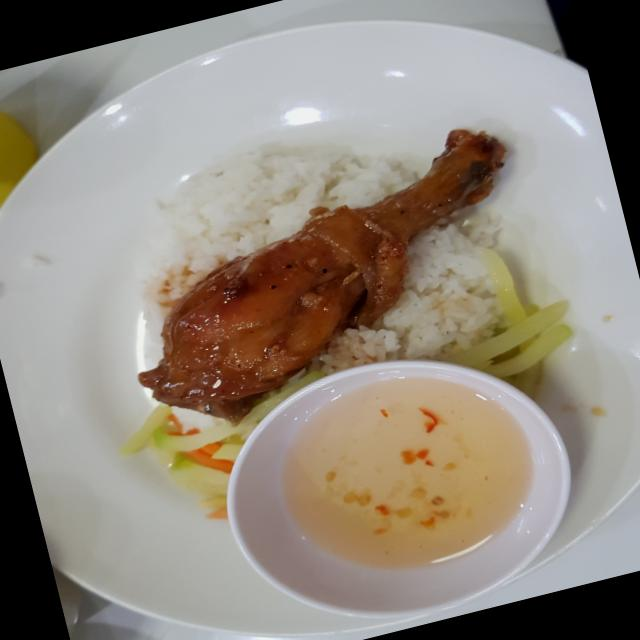com: (137, 150, 422, 369), (310, 213, 506, 373), (169, 397, 278, 444)
ga chien: (138, 131, 498, 419)
nuoc mam: (282, 376, 537, 569)
rau: (120, 370, 324, 519), (448, 249, 572, 378)
